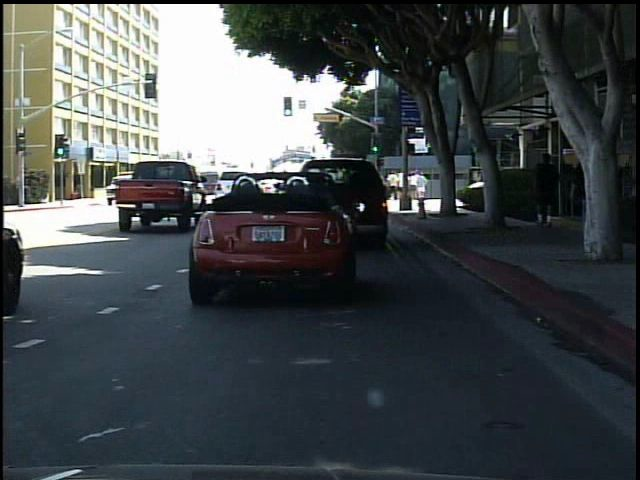person: (574, 138, 617, 257), (527, 149, 563, 230), (145, 173, 163, 201)
